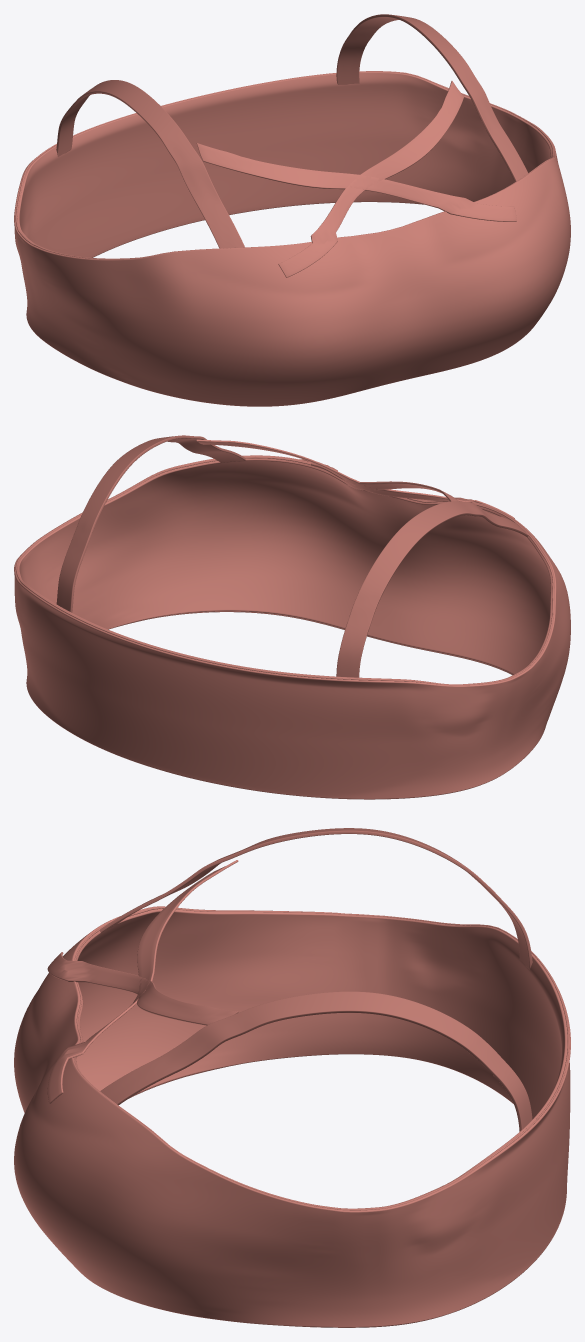
The model's file is Feminine-strappy-top.glb.
3 views of the same model, one above another, from view 1: azimuth 30°, elevation 25°; view 2: azimuth 150°, elevation 25°; view 3: azimuth 270°, elevation 25° (orthographic). The views are drawn at different scales.
Visible parts, largest first — view 1: Clothing / strappy body, Clothing / Strappy seated shoulder strap -1, Crop / seated cross strap200 -1, Clothing / Strappy seated shoulder strap 1, Crop / seated cross strap200 1, Crop / seated edge200 1 export; view 2: Clothing / strappy body, Clothing / Strappy seated shoulder strap -1, Clothing / Strappy seated shoulder strap 1, Crop / seated edge200 1 export, Crop / seated cross strap200 1, Crop / seated cross strap200 -1, Crop / seated edge200 0 export; view 3: Clothing / strappy body, Clothing / Strappy seated shoulder strap 1, Crop / seated cross strap200 1, Clothing / Strappy seated shoulder strap -1, Crop / seated cross strap200 -1, Crop / seated edge200 1 export.
Part boxes in pixels (x1=…): Clothing / strappy body: x1=14, y1=72, x2=570, y2=406; Clothing / Strappy seated shoulder strap -1: x1=56, y1=80, x2=244, y2=248; Crop / seated cross strap200 -1: x1=196, y1=143, x2=516, y2=221; Clothing / Strappy seated shoulder strap 1: x1=336, y1=14, x2=527, y2=181; Crop / seated cross strap200 1: x1=278, y1=81, x2=463, y2=277; Crop / seated edge200 1 export: x1=15, y1=71, x2=554, y2=259; Clothing / strappy body: x1=14, y1=455, x2=570, y2=799; Clothing / Strappy seated shoulder strap -1: x1=336, y1=501, x2=528, y2=677; Clothing / Strappy seated shoulder strap 1: x1=56, y1=435, x2=245, y2=612; Crop / seated edge200 1 export: x1=15, y1=456, x2=554, y2=685; Crop / seated cross strap200 1: x1=196, y1=439, x2=514, y2=518; Crop / seated cross strap200 -1: x1=299, y1=459, x2=458, y2=501; Crop / seated edge200 0 export: x1=121, y1=611, x2=512, y2=799; Clothing / strappy body: x1=14, y1=906, x2=570, y2=1327; Clothing / Strappy seated shoulder strap 1: x1=100, y1=991, x2=532, y2=1131; Crop / seated cross strap200 1: x1=47, y1=952, x2=238, y2=1025; Clothing / Strappy seated shoulder strap -1: x1=99, y1=828, x2=532, y2=969; Crop / seated cross strap200 -1: x1=47, y1=860, x2=238, y2=1103; Crop / seated edge200 1 export: x1=74, y1=907, x2=569, y2=1210.
Bounding box in the file's own units: 0.6236 × 0.287 × 0.4924.
